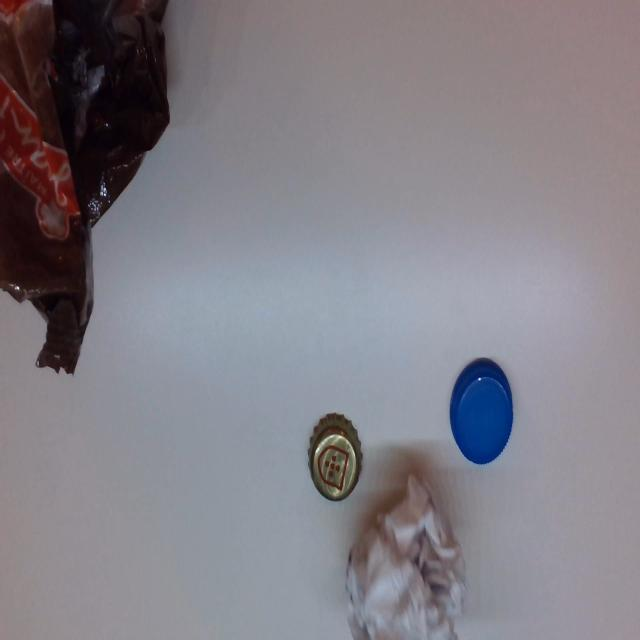Paper: (347, 468, 460, 638)
